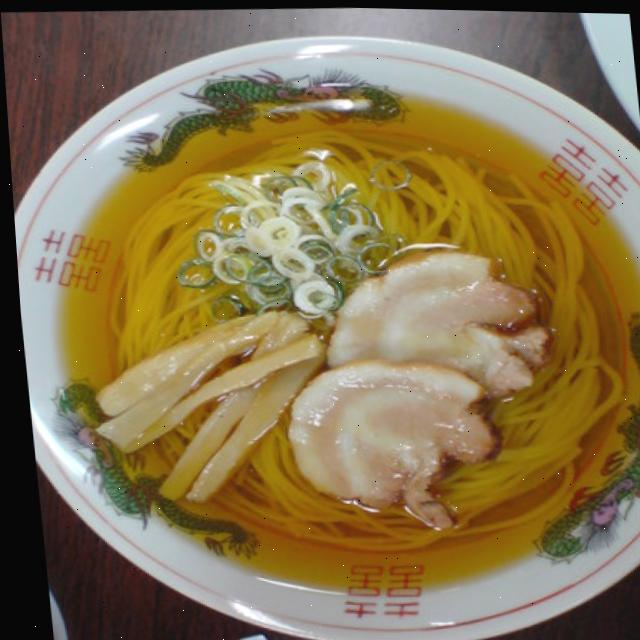面条主食: (1, 12, 640, 640)
